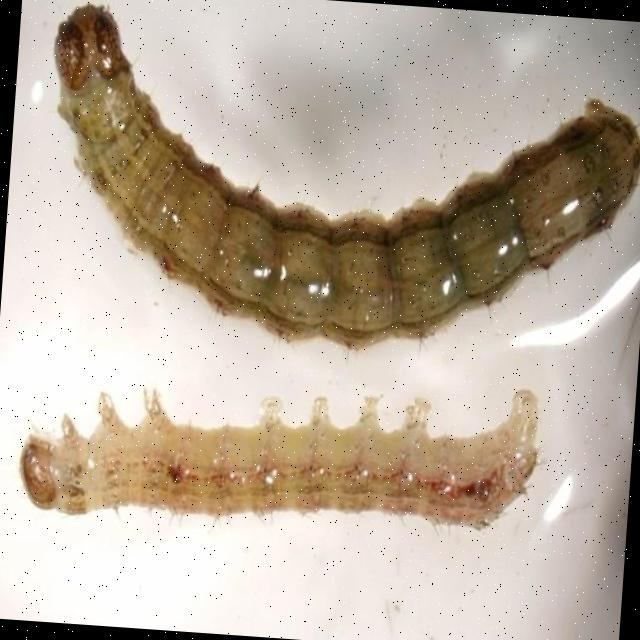worm: (34, 1, 640, 372), (17, 354, 546, 549)
